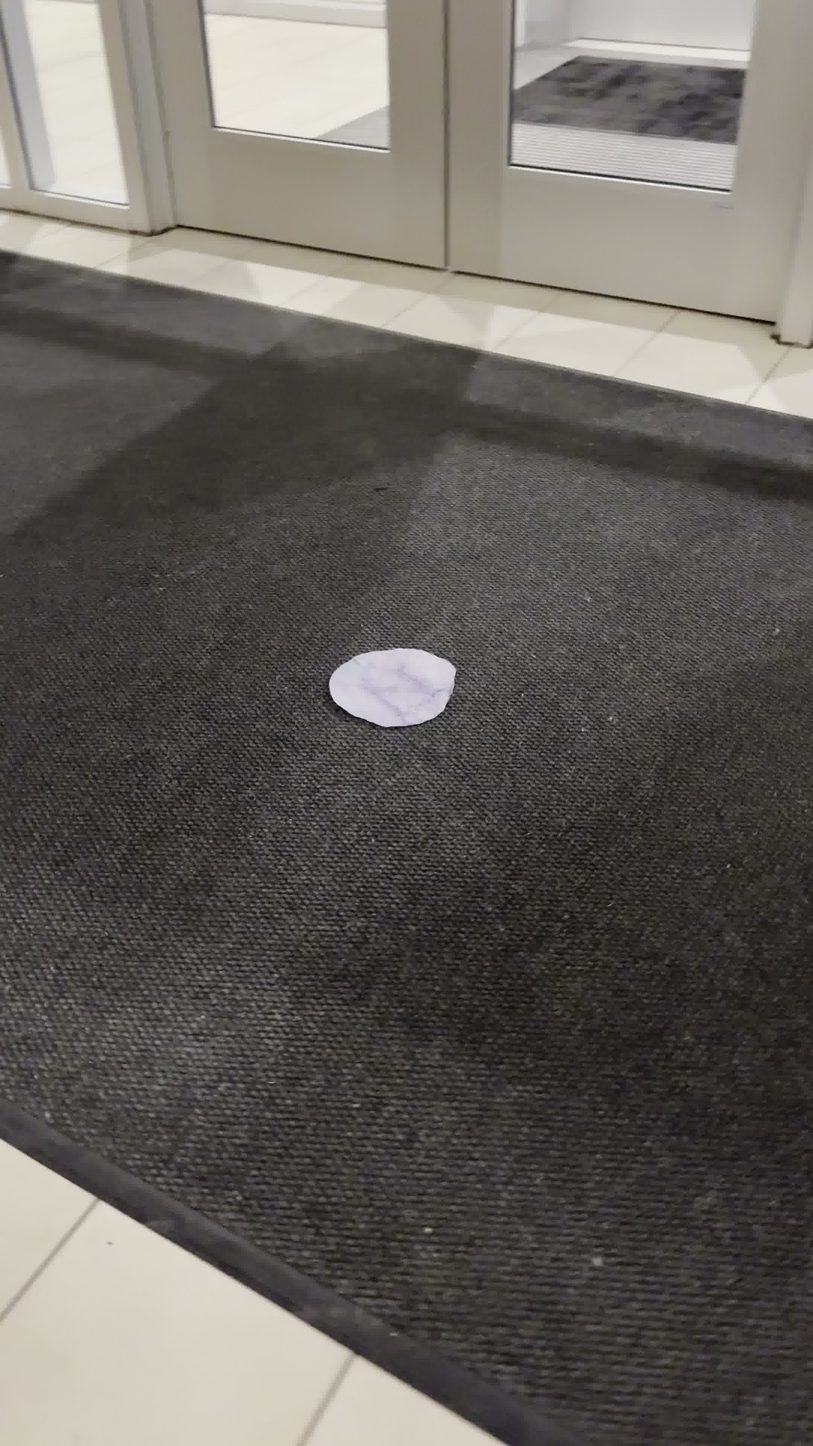Target: (329, 648, 456, 727)
